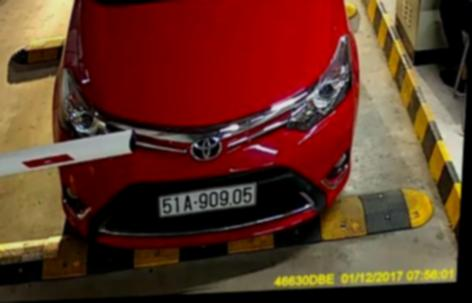License_Plate: (154, 184, 259, 215)
